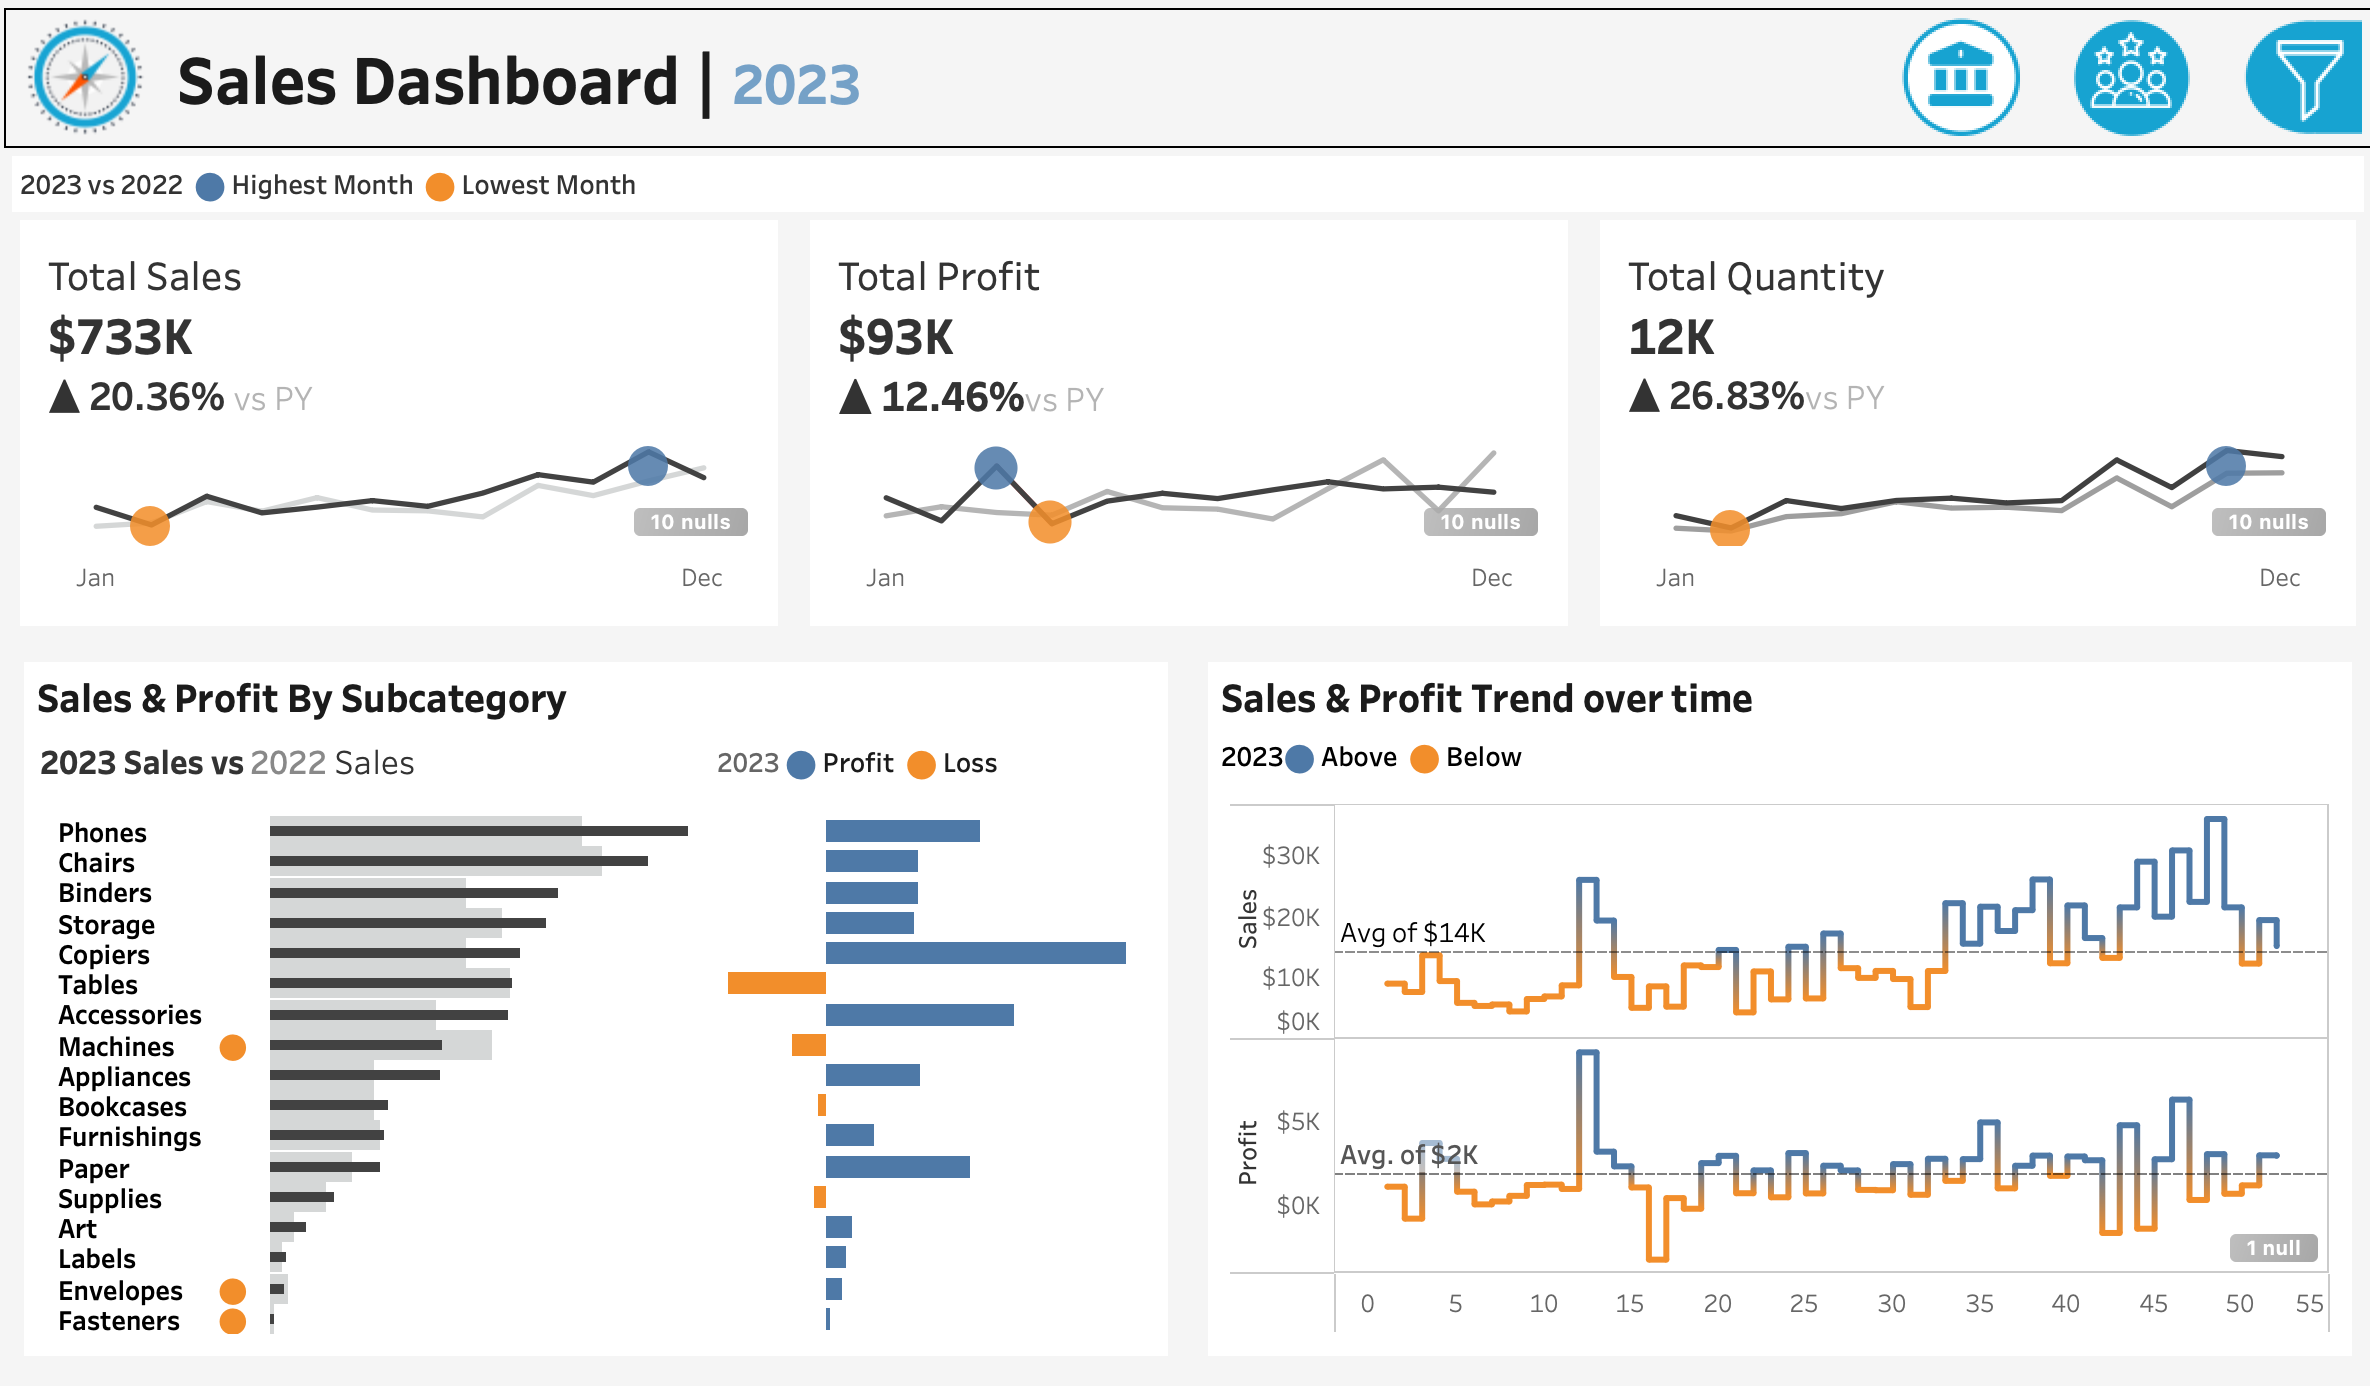

This screenshot's page, from the dashboard's own definition file:
{"tool":"tableau","page":{"name":"Sales Dashboard","canvas":[1200,700],"ordinal":1},"visuals":[{"type":"blank","box":[982,7,218,90]},{"type":"image","param":"Image/Icon - Logo.png","box":[9,9,79,68]},{"type":"text","box":[88,9,1103,68]},{"type":"dashboard-object","box":[945,9,85,68]},{"type":"dashboard-object","box":[1030,9,85,68]},{"type":"dashboard-object","box":[1115,9,84,68]},{"type":"worksheet","title":"Legends KPI","mark":"Automatic","box":[8,78,1184,36]},{"type":"text","box":[982,97,218,32]},{"type":"worksheet","title":"KPI Sales","mark":"Automatic","rows":["Calculation_379076433132687364"],"cols":["Order Date"],"box":[8,114,395,211]},{"type":"worksheet","title":"KPI Profit","mark":"Line","rows":["MIn / Max sales (copy)_97108875304394757"],"cols":["Order Date"],"box":[403,114,395,211]},{"type":"worksheet","title":"KPI Quantity","mark":"Automatic","rows":["MIn / Max sales (copy)_97108875310534665"],"cols":["Order Date"],"box":[798,114,394,211]},{"type":"parameter","param":"[Parameters].[Parameter 1]","box":[982,129,218,52]},{"type":"blank","box":[982,181,218,32]},{"type":"text","box":[982,213,218,31]},{"type":"filter","title":"KPI Sales","param":"[federated.0hshupf1bwe4om1clgvts0sz4iay].[none:Category:nk]","box":[982,244,218,52]},{"type":"filter","title":"KPI Sales","param":"[federated.0hshupf1bwe4om1clgvts0sz4iay].[none:Sub-Category:nk]","box":[982,296,218,52]},{"type":"text","box":[18,335,572,34]},{"type":"text","box":[610,335,572,34]},{"type":"blank","box":[982,348,218,32]},{"type":"worksheet","title":"Legends","mark":"Automatic","box":[18,369,340,32]},{"type":"text","box":[358,369,232,32]},{"type":"text","box":[610,369,572,26]},{"type":"text","box":[982,380,218,30]},{"type":"worksheet","title":"Weekly Trends","mark":"Automatic","rows":["Calculation_379076433123344384","Calculation_428827135277498372"],"cols":["Order Date"],"box":[610,395,572,287]},{"type":"worksheet","title":"Subcategory Comparison","mark":"Bar","rows":["Sub-Category","Calculation_5084423250590060544"],"cols":["CY Sales (copy)_379076433124372481","Calculation_379076433123344384","Calculation_428827135277498372"],"box":[18,401,572,281]},{"type":"filter","title":"KPI Sales","param":"[federated.0hshupf1bwe4om1clgvts0sz4iay].[none:Region:nk]","box":[982,410,218,52]},{"type":"filter","title":"KPI Sales","param":"[federated.0hshupf1bwe4om1clgvts0sz4iay].[none:State:nk]","box":[982,462,218,52]},{"type":"filter","title":"KPI Sales","param":"[federated.0hshupf1bwe4om1clgvts0sz4iay].[none:City:nk]","box":[982,514,218,52]}]}

Visuals, with their boxes in screenshot pixels (x1, y1, x2, y2), scaled from the page's 1200x700 canvas onto the 2370x1386 screenshot:
blank: {"x1": 1939, "y1": 14, "x2": 2369, "y2": 192}
image: {"x1": 18, "y1": 18, "x2": 174, "y2": 152}
text: {"x1": 174, "y1": 18, "x2": 2352, "y2": 152}
dashboard-object: {"x1": 1866, "y1": 18, "x2": 2034, "y2": 152}
dashboard-object: {"x1": 2034, "y1": 18, "x2": 2202, "y2": 152}
dashboard-object: {"x1": 2202, "y1": 18, "x2": 2368, "y2": 152}
"Legends KPI" worksheet: {"x1": 16, "y1": 154, "x2": 2354, "y2": 226}
text: {"x1": 1939, "y1": 192, "x2": 2369, "y2": 255}
"KPI Sales" worksheet: {"x1": 16, "y1": 226, "x2": 796, "y2": 644}
"KPI Profit" worksheet (Line marks): {"x1": 796, "y1": 226, "x2": 1576, "y2": 644}
"KPI Quantity" worksheet: {"x1": 1576, "y1": 226, "x2": 2354, "y2": 644}
parameter: {"x1": 1939, "y1": 255, "x2": 2369, "y2": 358}
blank: {"x1": 1939, "y1": 358, "x2": 2369, "y2": 422}
text: {"x1": 1939, "y1": 422, "x2": 2369, "y2": 483}
"KPI Sales" filter: {"x1": 1939, "y1": 483, "x2": 2369, "y2": 586}
"KPI Sales" filter: {"x1": 1939, "y1": 586, "x2": 2369, "y2": 689}
text: {"x1": 36, "y1": 663, "x2": 1165, "y2": 731}
text: {"x1": 1205, "y1": 663, "x2": 2334, "y2": 731}
blank: {"x1": 1939, "y1": 689, "x2": 2369, "y2": 752}
"Legends" worksheet: {"x1": 36, "y1": 731, "x2": 707, "y2": 794}
text: {"x1": 707, "y1": 731, "x2": 1165, "y2": 794}
text: {"x1": 1205, "y1": 731, "x2": 2334, "y2": 782}
text: {"x1": 1939, "y1": 752, "x2": 2369, "y2": 812}
"Weekly Trends" worksheet: {"x1": 1205, "y1": 782, "x2": 2334, "y2": 1350}
"Subcategory Comparison" worksheet (Bar marks): {"x1": 36, "y1": 794, "x2": 1165, "y2": 1350}
"KPI Sales" filter: {"x1": 1939, "y1": 812, "x2": 2369, "y2": 915}
"KPI Sales" filter: {"x1": 1939, "y1": 915, "x2": 2369, "y2": 1018}
"KPI Sales" filter: {"x1": 1939, "y1": 1018, "x2": 2369, "y2": 1121}
